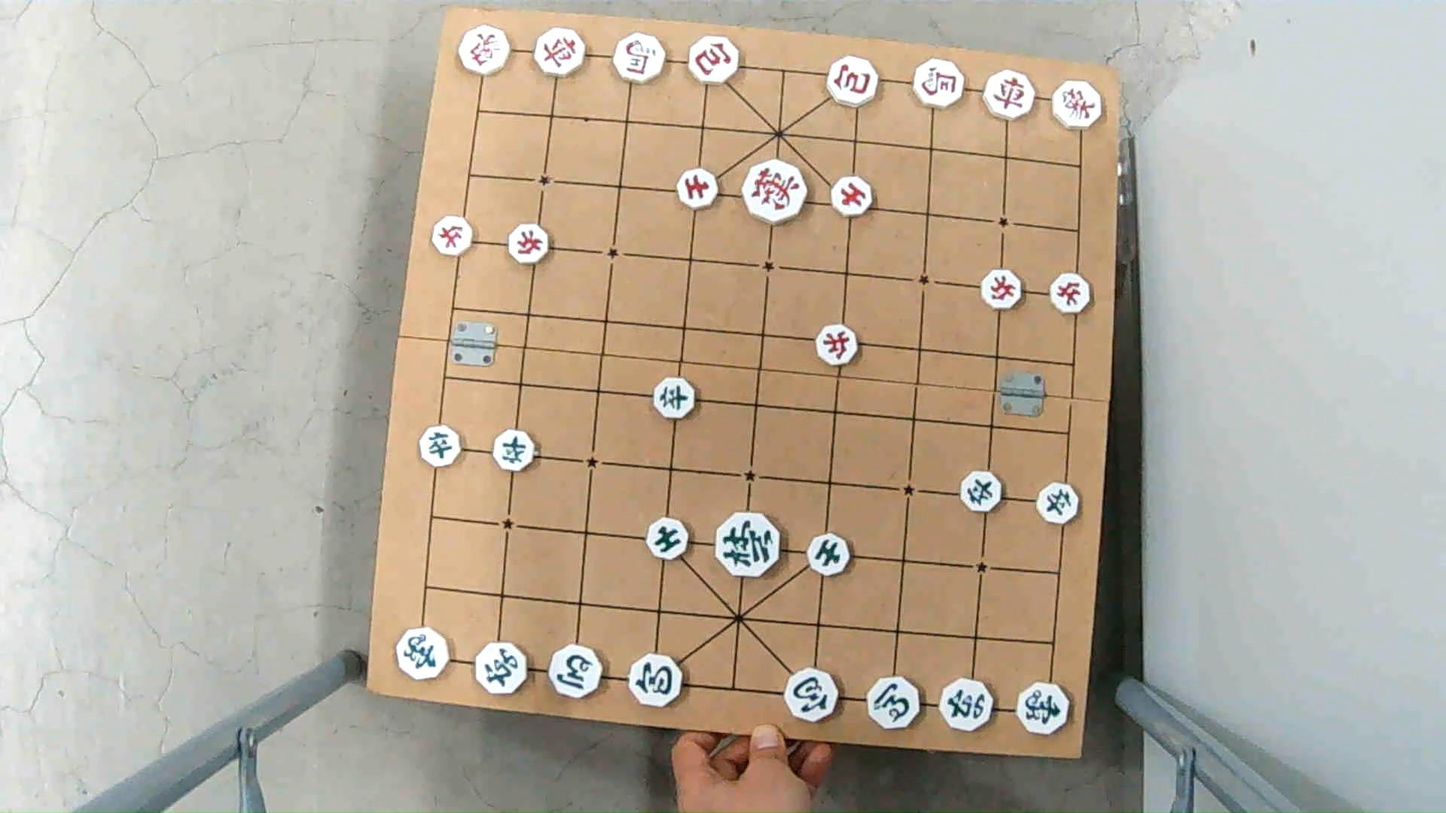cha_green: (941, 679, 997, 729), (473, 640, 530, 688)
cha_red: (983, 72, 1040, 118), (534, 30, 590, 75)
jol_green: (651, 381, 700, 418), (490, 433, 539, 470), (416, 428, 464, 465), (958, 471, 1005, 508), (1034, 486, 1082, 522)
jol_red: (813, 328, 860, 365), (508, 225, 556, 261), (429, 218, 477, 254), (976, 271, 1024, 307), (1045, 277, 1091, 314)
ma_green: (546, 647, 603, 697), (862, 680, 917, 729)
ma_red: (913, 62, 969, 108), (615, 33, 671, 78)
po_green: (785, 673, 842, 722), (626, 656, 682, 705)
po_red: (826, 56, 883, 103), (687, 38, 744, 83)
sa_green: (806, 535, 855, 574), (644, 521, 692, 559)
sa_red: (827, 178, 876, 215), (673, 171, 722, 207)
sang_green: (392, 630, 448, 679), (1014, 686, 1072, 733)
sang_red: (453, 25, 512, 70), (1048, 81, 1105, 125)
wang_green: (714, 517, 782, 574)
wang_red: (739, 162, 810, 218)
